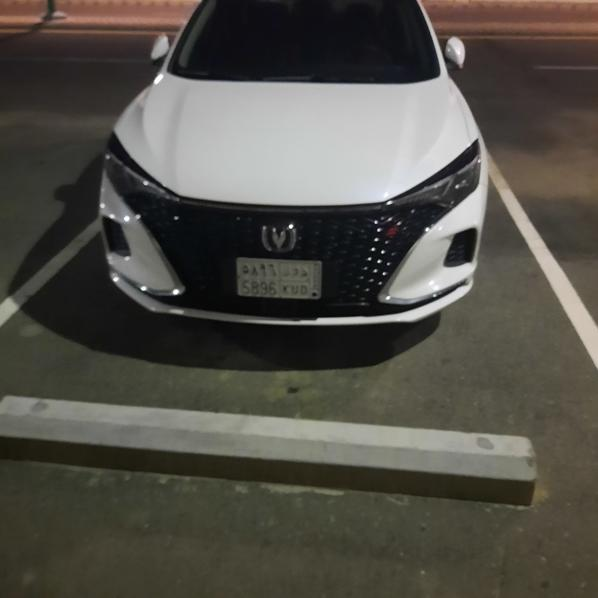numberplate: (238, 257, 322, 299)
